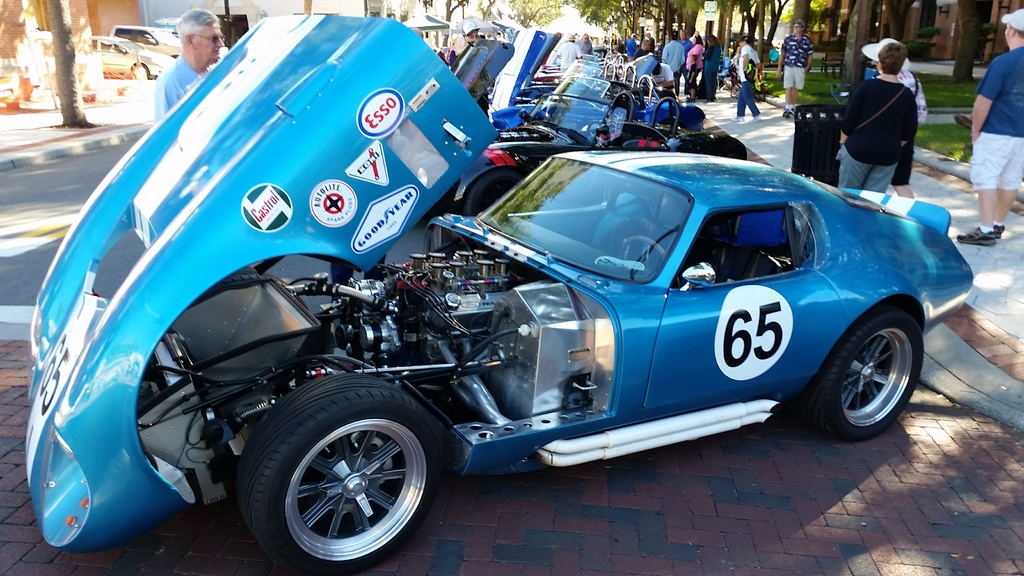face: (184, 23, 225, 60)
